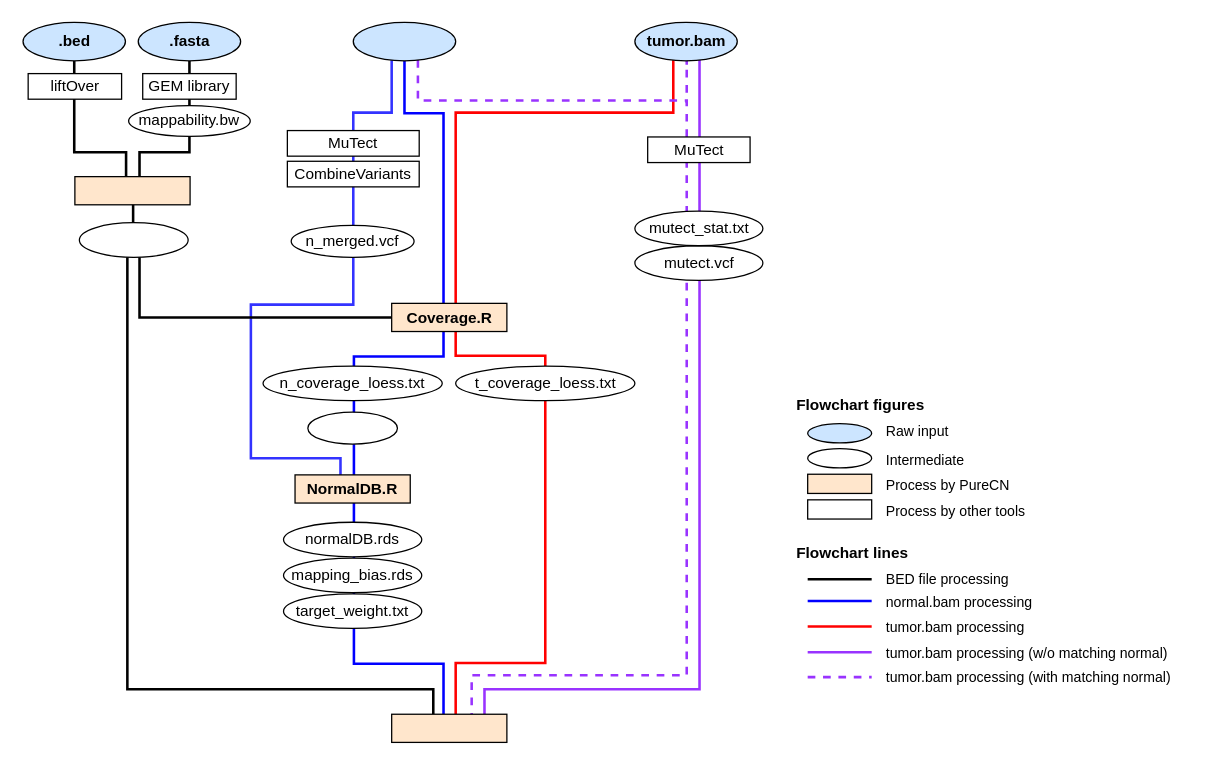
Image size: 1226x765. Some labels were removed from this diagram. Here are the shapes that lost their labels. From the top down, the centre of each, then its label:
the point at 404,41: normal.bam
the point at 132,190: IntervalFile.R
the point at 133,239: intervals.txt
the point at 352,427: normalDB
the point at 448,727: PureCN.R
